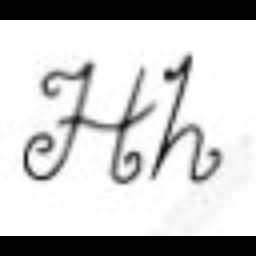h: (14, 60, 146, 192), (155, 70, 221, 178)
